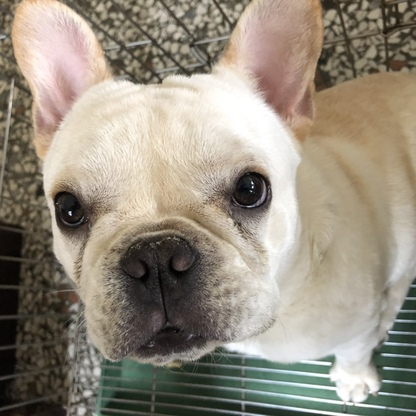bulldog: (7, 1, 416, 405)
